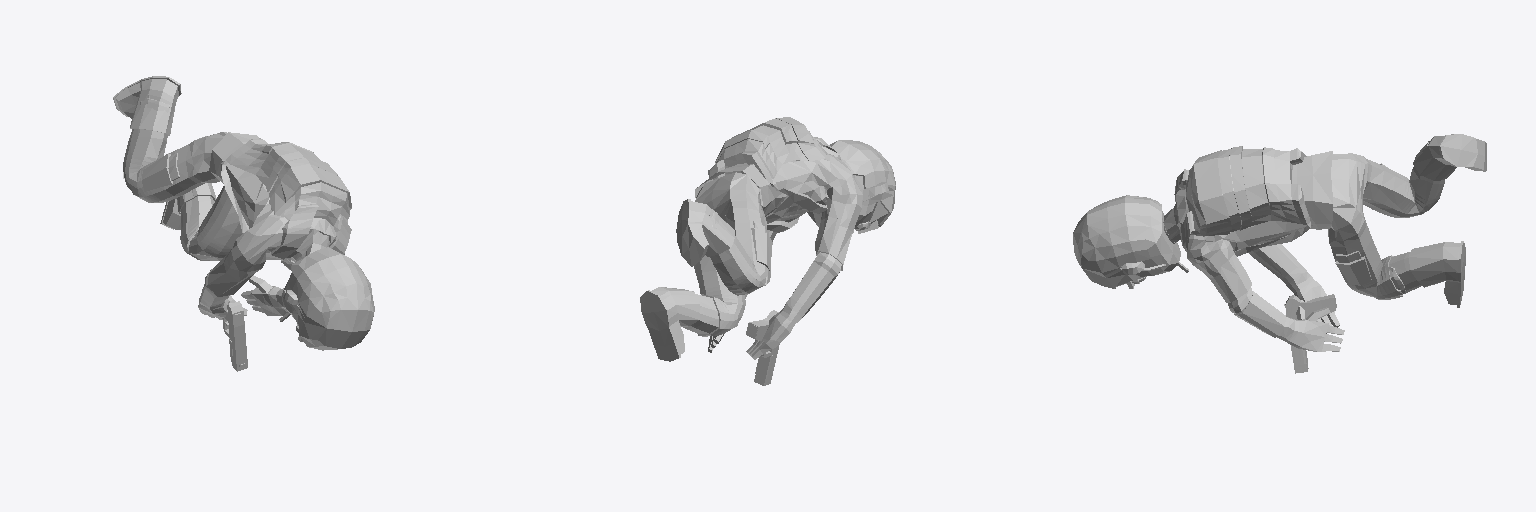
Rendered from frame_0053.obj.
3 views of the same model, side by side, from view 1: azimuth 30°, elevation 25°; view 2: azimuth 150°, elevation 25°; view 3: azimuth 270°, elevation 25° (orthographic).
Parts seen in each view (by area): view 1: Body, Gun; view 2: Body, Gun; view 3: Body, Gun.
Part boxes in pixels (x1,y1,x2,y2): Body: (113,76,374,350); Gun: (223,295,247,371); Body: (640,117,895,361); Gun: (746,310,779,385); Body: (1073,134,1486,351); Gun: (1284,294,1336,373).
Bounding box in the file's own units: 1.25 × 2.3 × 3.62.